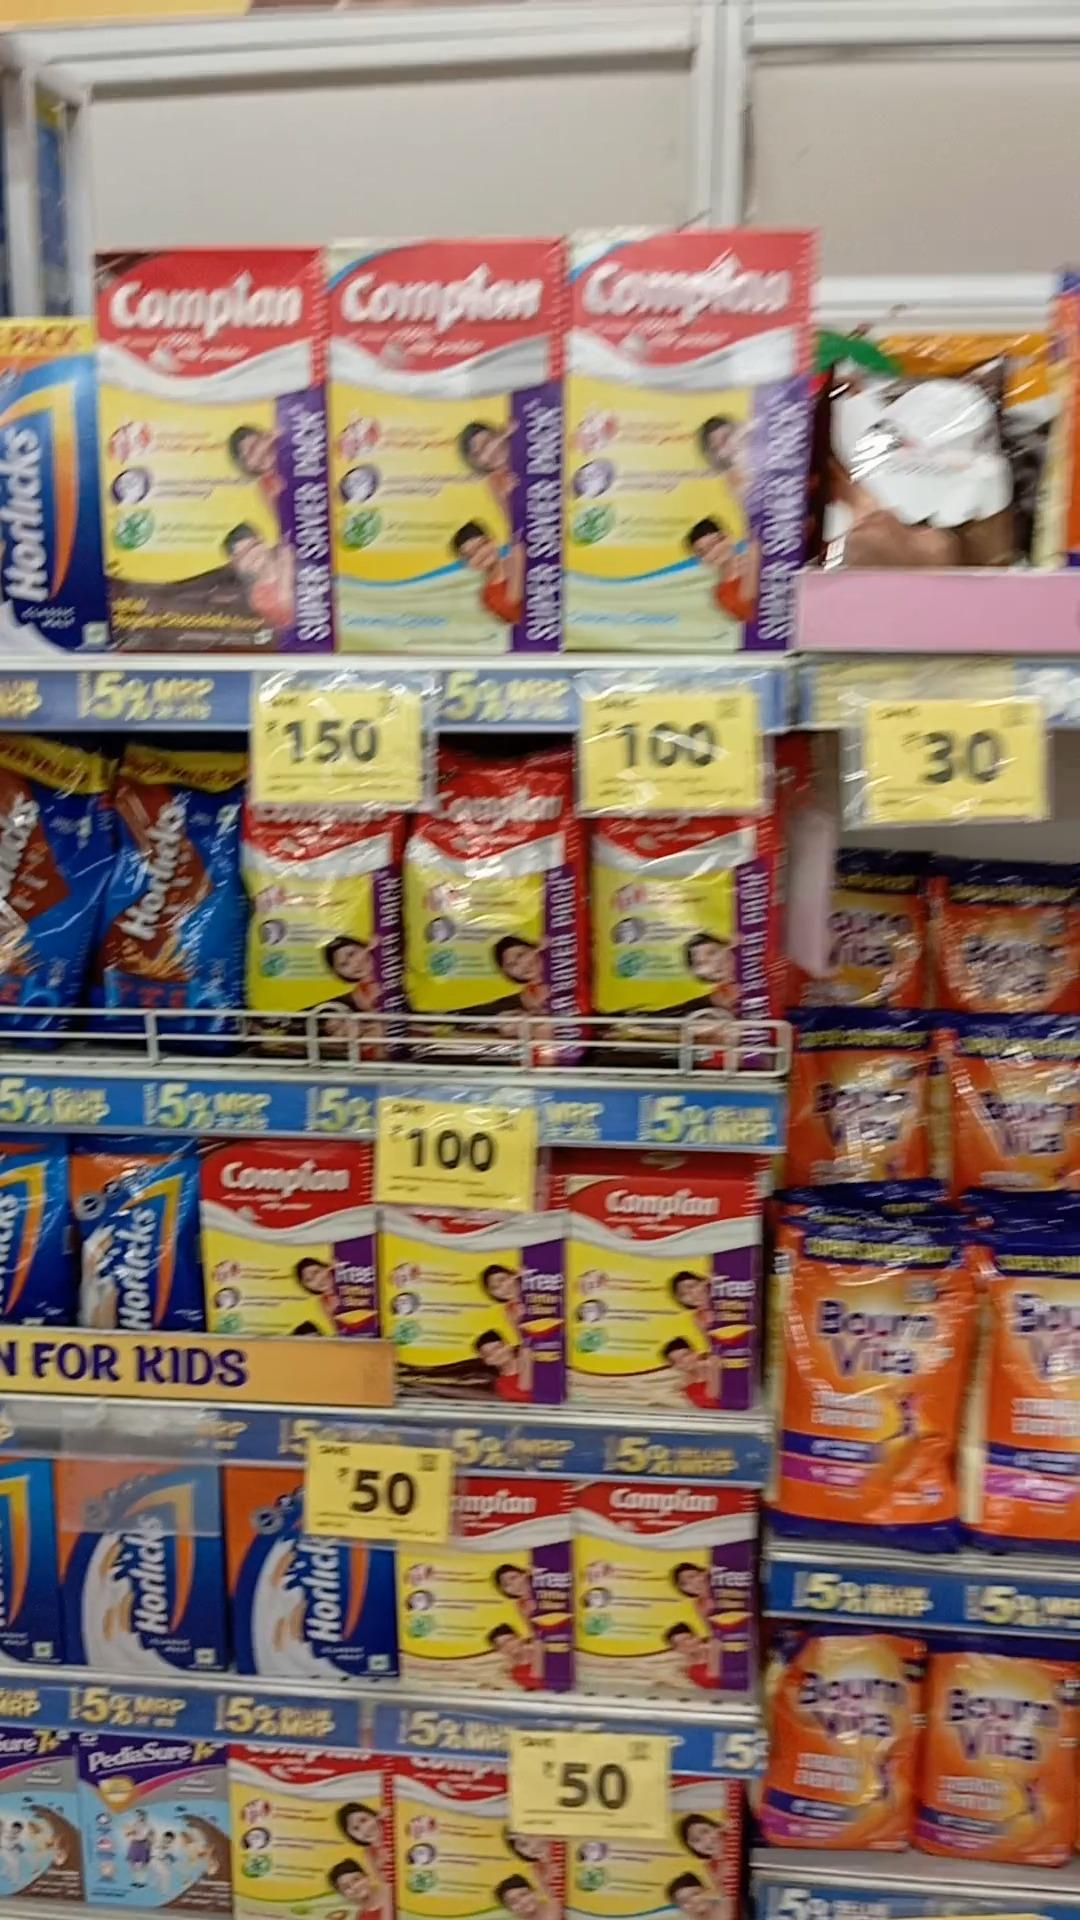BOURN_VITA_1_KG_POUCH: (769, 1224, 976, 1547)
BOURN_VITA_500_G_POUCH: (765, 1626, 931, 1853), (938, 1636, 1080, 1869)
COMPLAN_CHOCOLATE_1_KG_PACK: (99, 251, 331, 654)
COMPLAN_CHOCOLATE_500_GMS_PACK: (380, 1201, 566, 1403)
COMPLAN_KESAR_BADAM_500_GMS_PACK: (572, 1172, 757, 1416), (580, 1487, 760, 1712), (404, 1474, 578, 1689)
COMPLAN_PISTA_BADAM_500_GMS_PACK: (236, 1743, 396, 1920)
COMPLAN_RC_POUCH_700_GMS_12: (411, 741, 587, 1069), (599, 822, 777, 1071), (257, 807, 405, 1071)
HORLICK_CHOCOLATE_750_G_POUCH: (127, 735, 252, 1048), (1, 735, 121, 1051)
HORLICK_CLASSIC_MALT_500_G_PACK: (231, 1468, 400, 1687), (55, 1464, 228, 1677)
HORLICK_CLASSIC_MALT_750_G_POUCH: (62, 1141, 202, 1335)
PEDIASURE_7_PLUS_CHOCOLATE_400_G_PACK: (90, 1730, 228, 1916)
